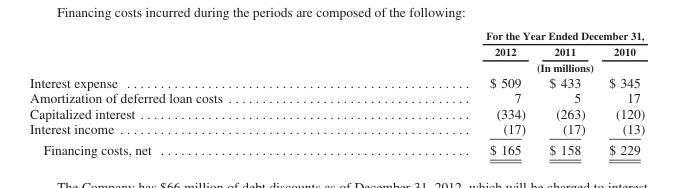table: (29, 28, 644, 157)
table column: (29, 28, 353, 157), (353, 28, 536, 157), (536, 28, 596, 157), (596, 28, 644, 157)
table column header: (29, 28, 644, 74)
table row: (29, 120, 644, 139), (29, 139, 644, 157), (29, 43, 644, 59), (29, 89, 644, 105), (29, 28, 644, 43), (29, 59, 644, 74), (29, 74, 644, 89), (29, 105, 644, 120)
table spanning cell: (353, 28, 644, 43), (353, 59, 644, 74)
